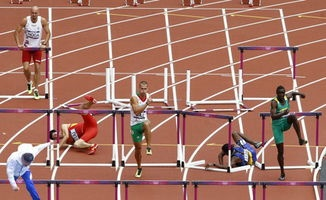falling: (210, 127, 265, 171)
